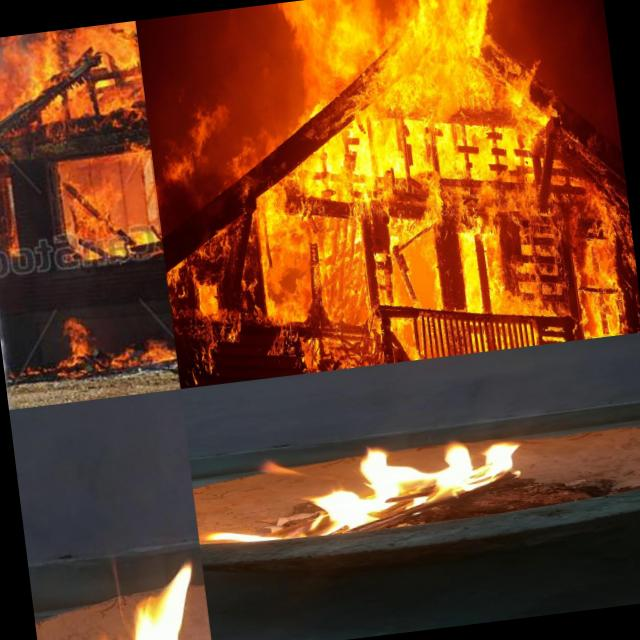fire: (135, 0, 640, 388), (198, 422, 560, 550), (0, 20, 148, 152), (58, 559, 212, 640), (60, 162, 164, 265), (80, 303, 144, 387)
